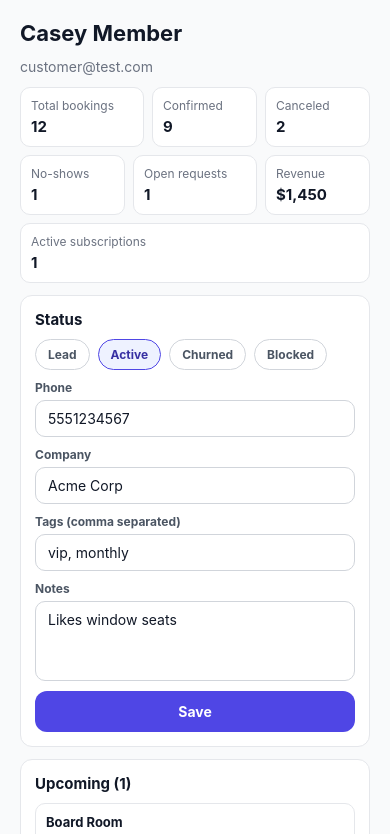
Test case: OwnerMemberDetailScreen › saves CRM edits with the web payload
The image size is (390, 834).
Expected: the text box named "Notes" holds "Likes window seats", [35,601,355,681]
Click the button with aria-label "Set status blocked": click(291, 354) [254,339,327,370]
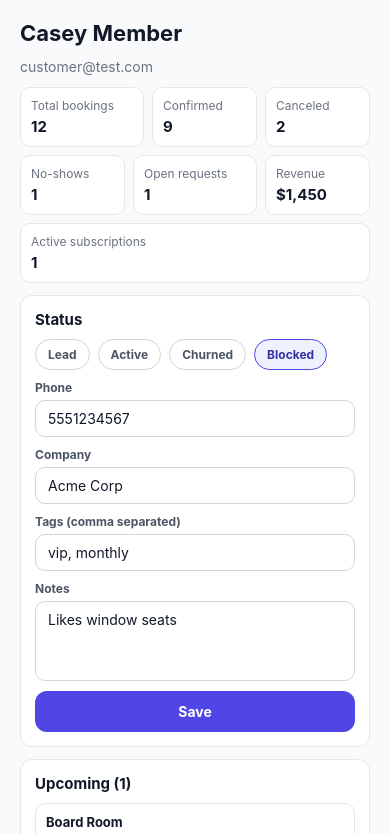
Replace the text in the field named "Tags (comma separated)" with "vip, late-payer ,": (195, 552) [35,534,355,571]
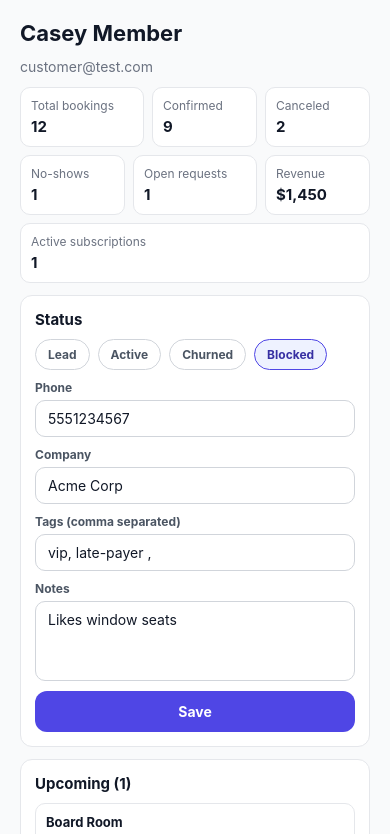
Replace the text in the text box named "Notes" with "Updated": (195, 641) [35,601,355,681]
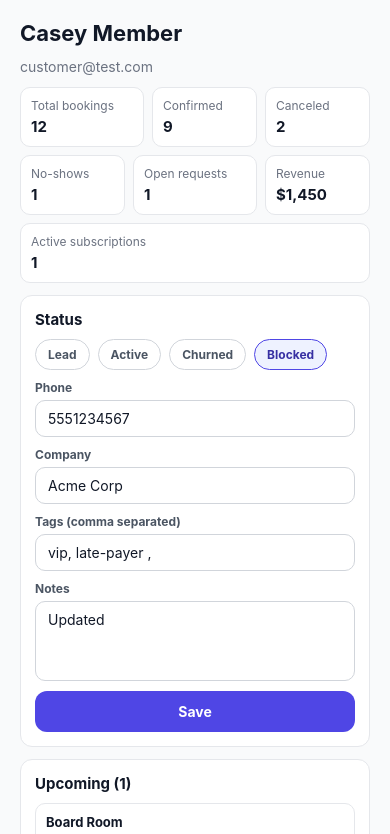
Click the button with aria-label "Save member": click(195, 712) [35,691,355,732]
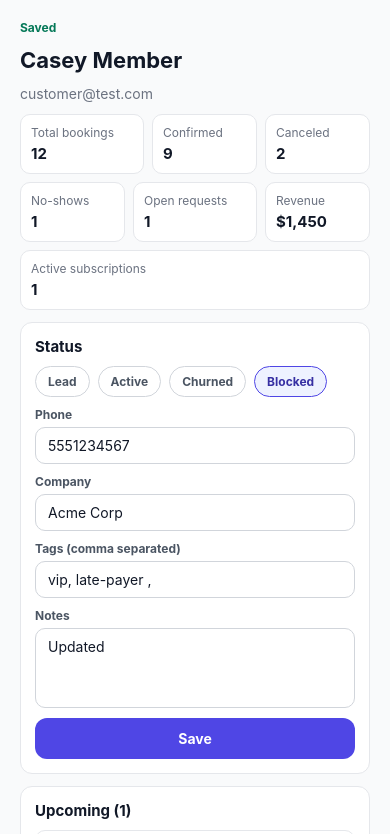
Expected: the text "Saved" is shown, [20,20,56,35]
